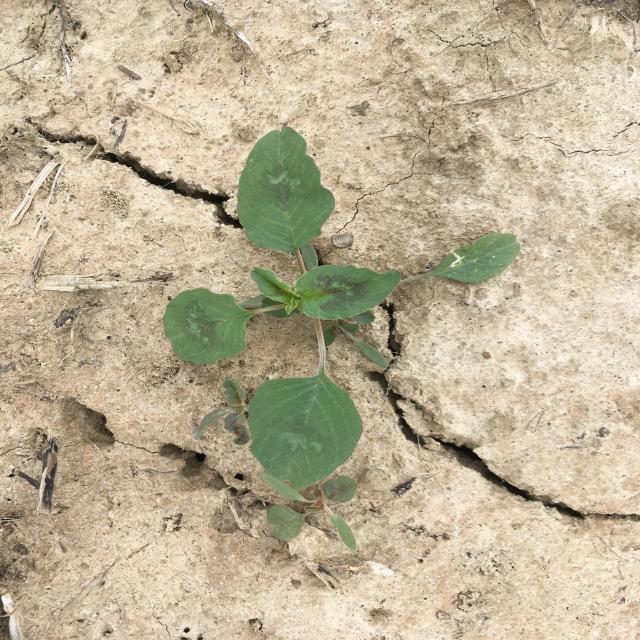PalmerAmaranth: (162, 127, 521, 490), (259, 472, 358, 551), (197, 378, 250, 446)
